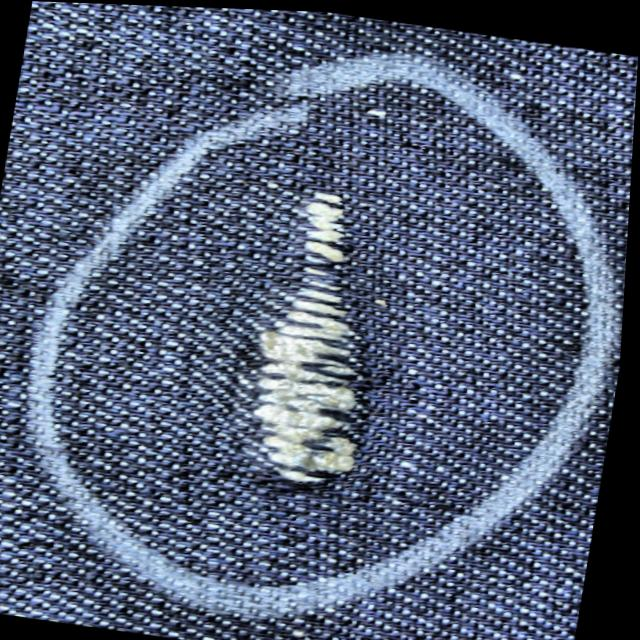Hole: (259, 185, 368, 483)
